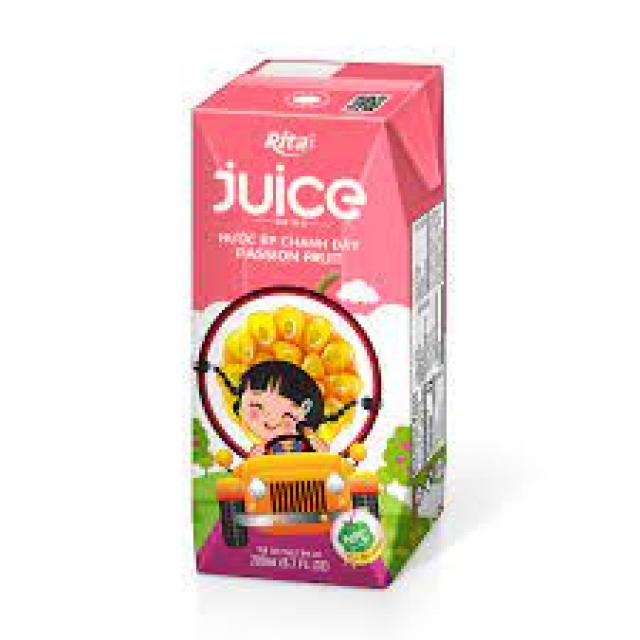non_white_jug: (191, 53, 465, 600), (455, 11, 640, 640)
